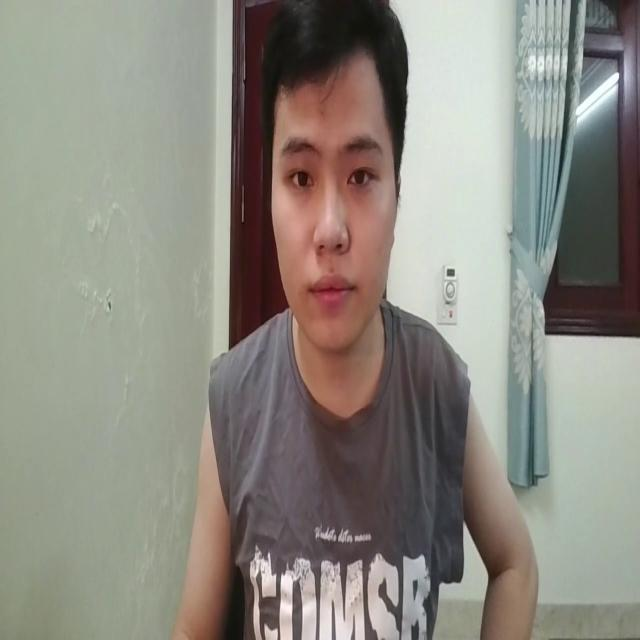student: (171, 3, 539, 640)
